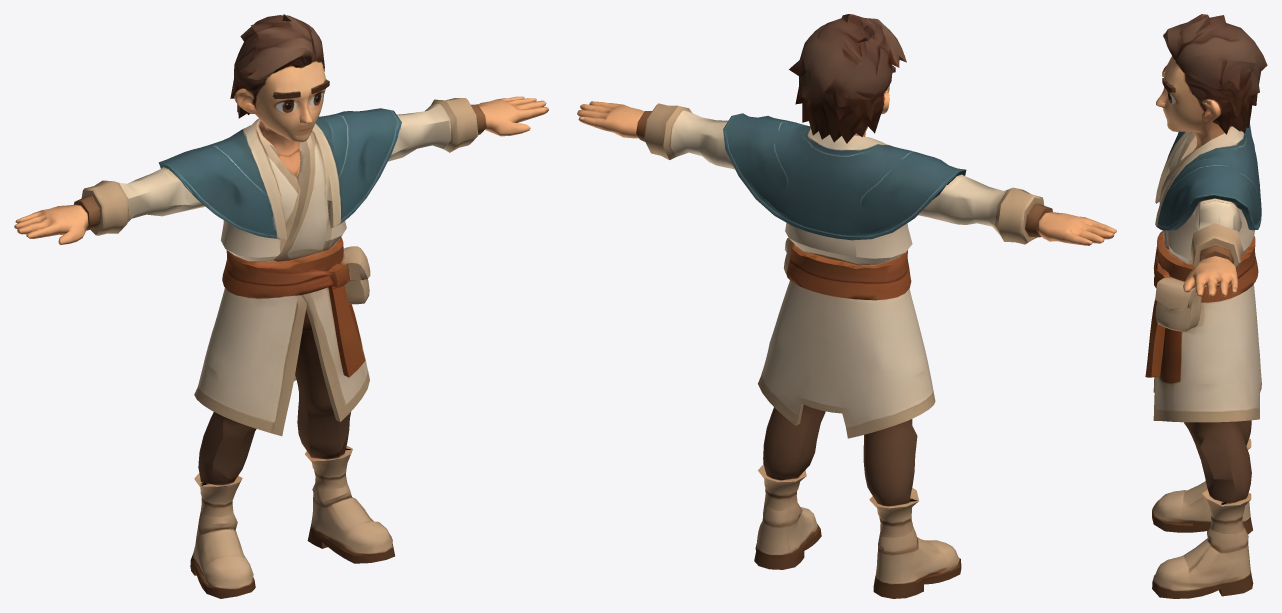
Rendered from male_rare.obj.
3 renders of one model, left to right at view 1: azimuth 30°, elevation 25°; view 2: azimuth 150°, elevation 25°; view 3: azimuth 270°, elevation 25°, orthographic. The views are drawn at different scales.
Parts seen in each view (by area): view 1: model; view 2: model; view 3: model.
Boxes of the visible parts, <box> form: model: <box>14,14,548,598</box>; model: <box>577,14,1116,598</box>; model: <box>1145,14,1267,598</box>.
Size of the model in its own units: 1.79 by 1.77 by 0.3628.
Materials: 1 (1 with a texture image).
